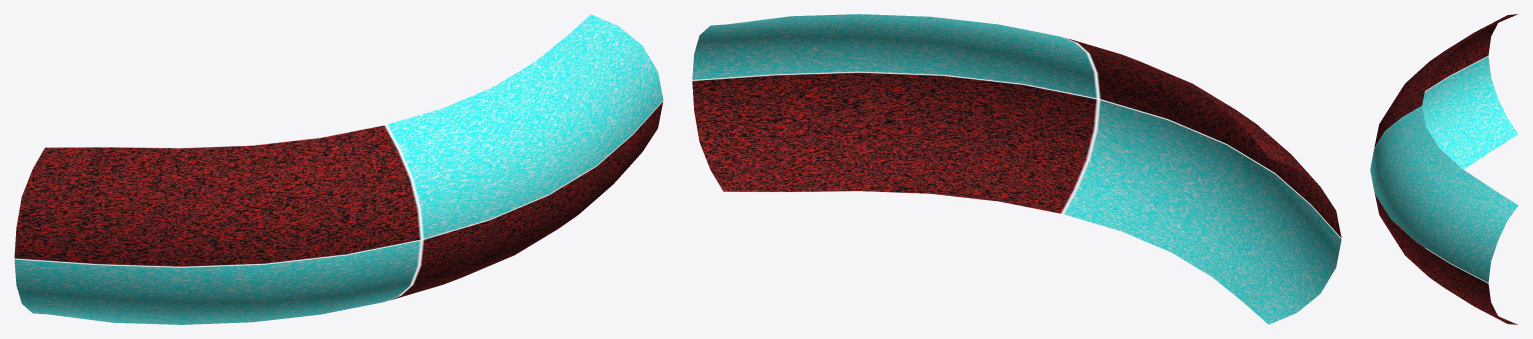
3 renders of one model, left to right at view 1: azimuth 30°, elevation 25°; view 2: azimuth 150°, elevation 25°; view 3: azimuth 270°, elevation 25°, orthographic. The views are drawn at different scales.
Parts seen in each view (by area): view 1: SM_VFX_Ring_Partial_LOD0; view 2: SM_VFX_Ring_Partial_LOD0; view 3: SM_VFX_Ring_Partial_LOD0.
Part boxes in pixels (box(x1,y1,x2,y2)): SM_VFX_Ring_Partial_LOD0: box(14, 14, 663, 324); SM_VFX_Ring_Partial_LOD0: box(692, 14, 1341, 324); SM_VFX_Ring_Partial_LOD0: box(1370, 14, 1518, 324).
Bounding box in the file's own units: 1.89 × 0.4924 × 0.5211.
Materials: 1 (1 with a texture image).
